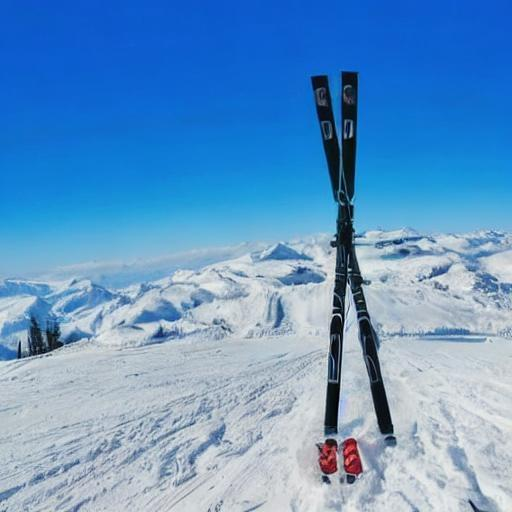Skis: (308, 72, 398, 442), (320, 69, 362, 440)
